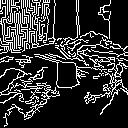cube: (48, 58, 91, 93)
